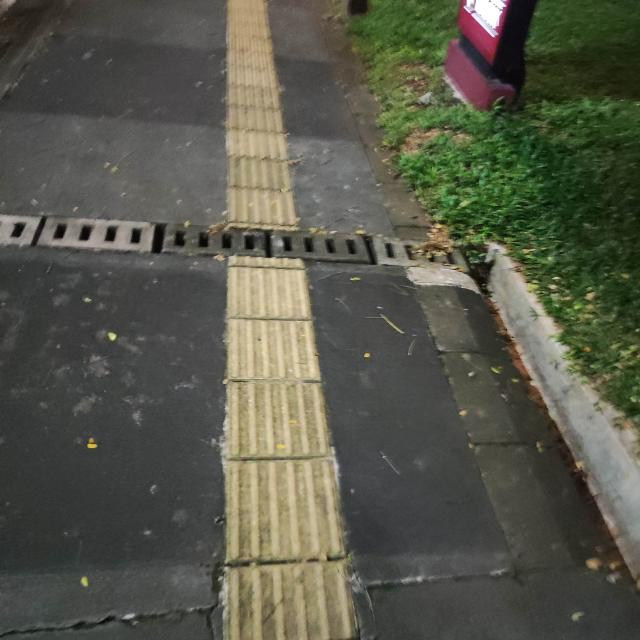lurus: (208, 17, 332, 640)
